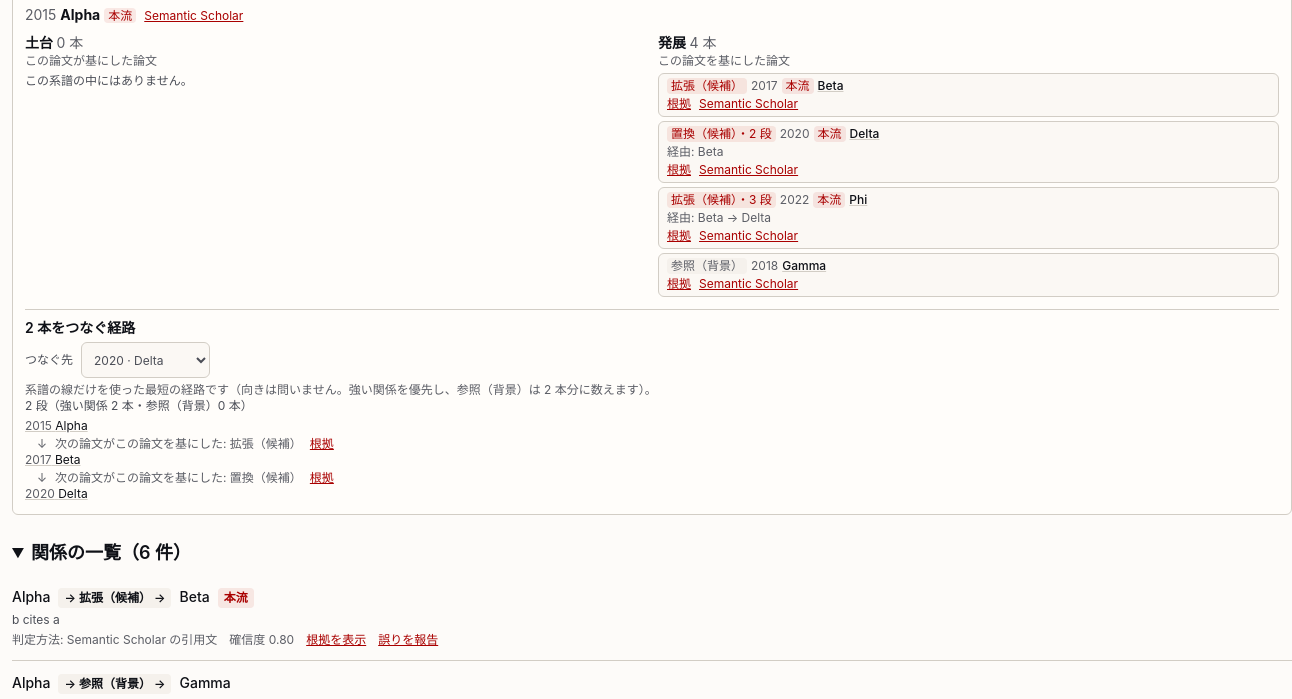
Test: two-paper path (P1-5) › finds the strong path, highlights it, and reports unconnected pairs
(page scrolled)
Expected: the element that starts with "段（強い関係" shows "2 段（強い関係 2 本", [25,398,334,502]
Select "2019 · Epsilon" in the dropdown labelled "つなぐ先" at (146, 360), box [81,342,210,378]
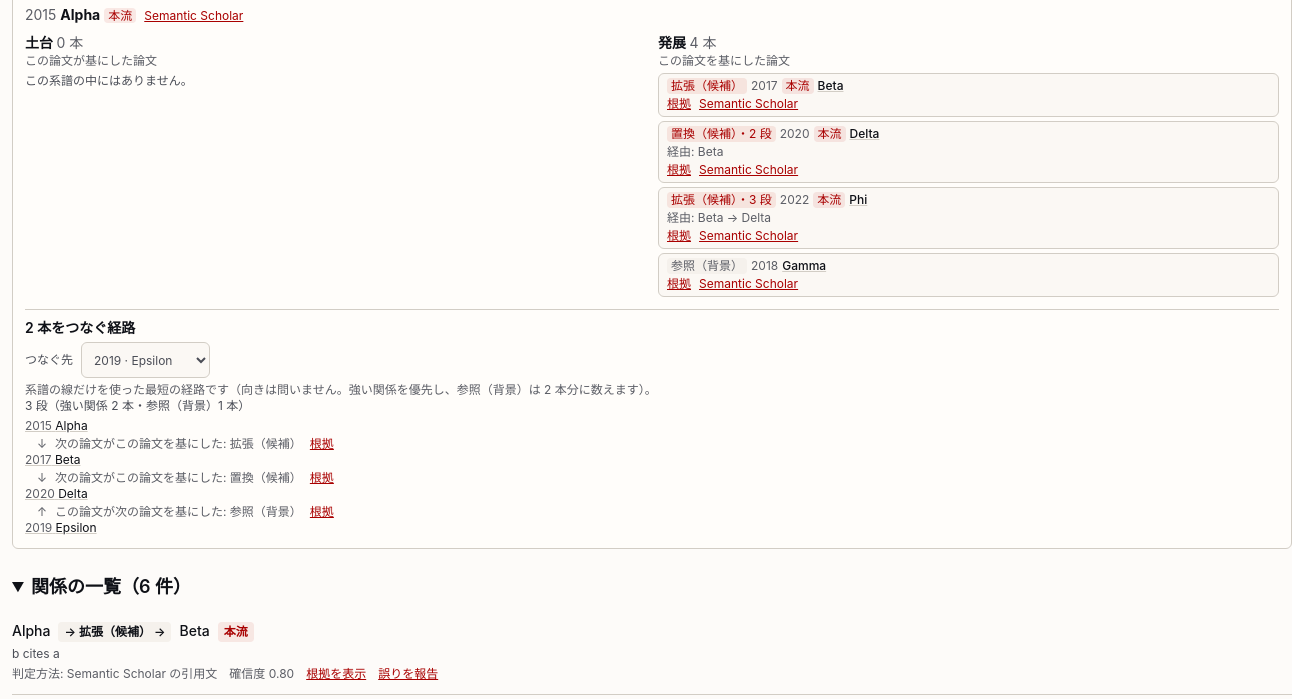
Result: the element that starts with "段（強い関係" shows "↑" at [37,504,47,519]
